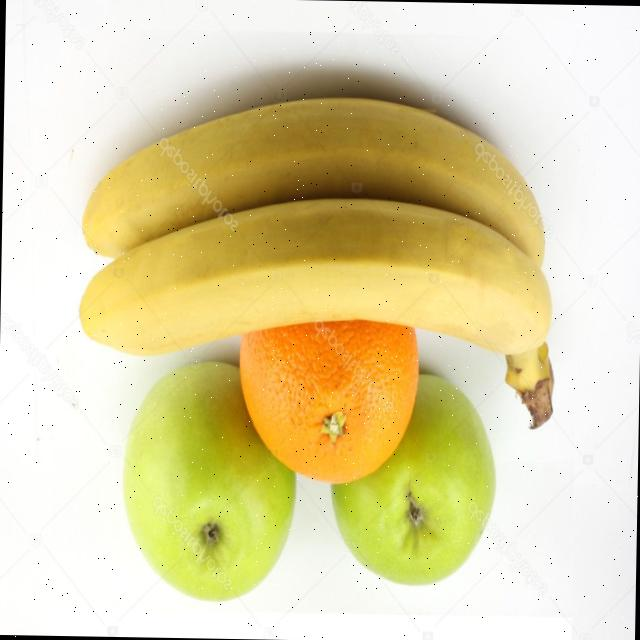Apel: (119, 358, 298, 604), (328, 371, 497, 588)
Jeruk: (236, 318, 419, 487)
Pisang: (76, 192, 557, 430), (80, 92, 548, 270)
